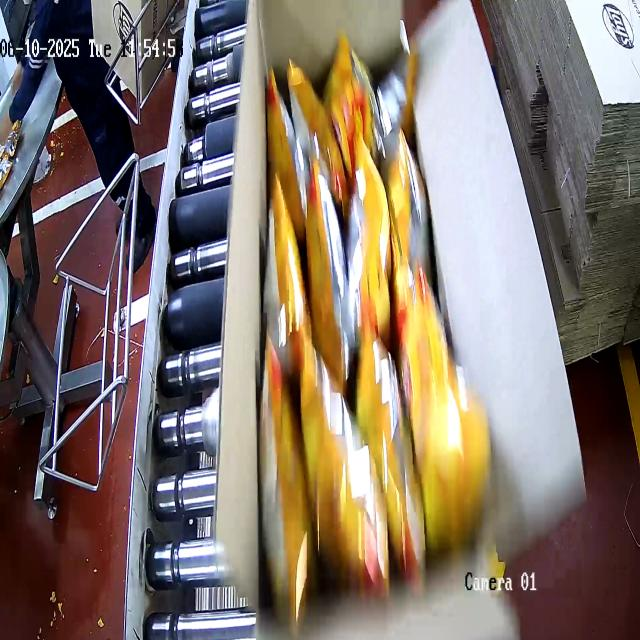FRENCH_CHEESE: (255, 52, 491, 600)
